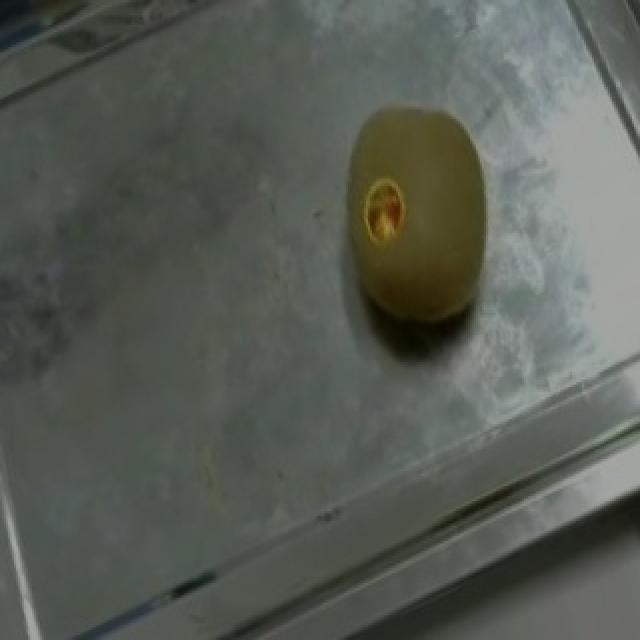Fruit: (302, 74, 536, 374)
